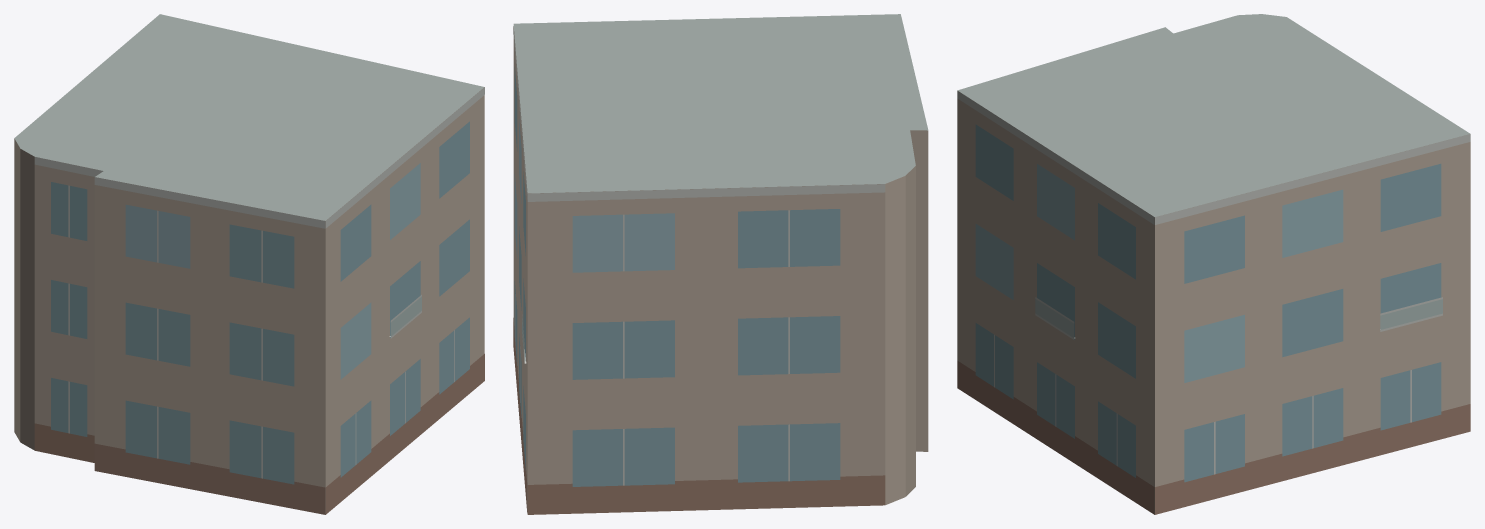
Rendered from survey-upis-33012353.glb.
The picture shows the model from 3 angles, left to right: view 1: azimuth 30°, elevation 25°; view 2: azimuth 150°, elevation 25°; view 3: azimuth 270°, elevation 25°; orthographic projection. The views are drawn at different scales.
Parts seen in each view (by area): view 1: survey-upis-33012353.tmp; view 2: survey-upis-33012353.tmp; view 3: survey-upis-33012353.tmp.
Part boxes in pixels (x1,y1,x2,y2): survey-upis-33012353.tmp: (14,14,484,514); survey-upis-33012353.tmp: (513,14,928,514); survey-upis-33012353.tmp: (957,14,1470,514).
Size of the model in its own units: 13.41 by 9.15 by 14.31.
